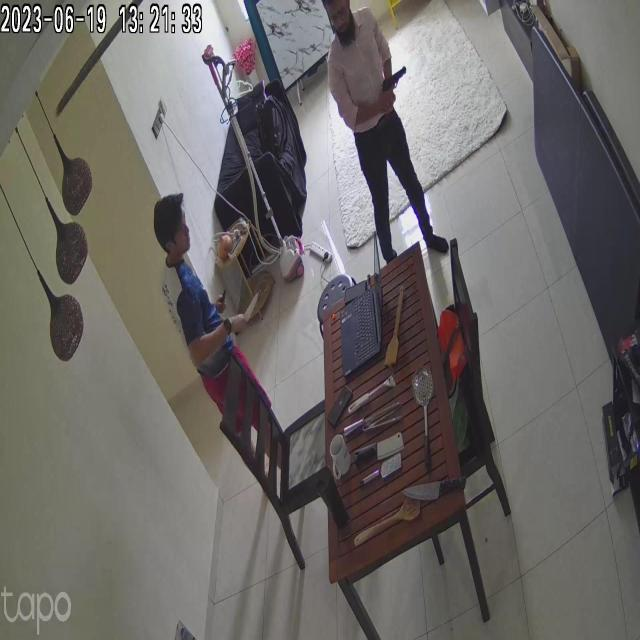Gun: (379, 62, 412, 103)
Knife: (236, 290, 272, 330)
